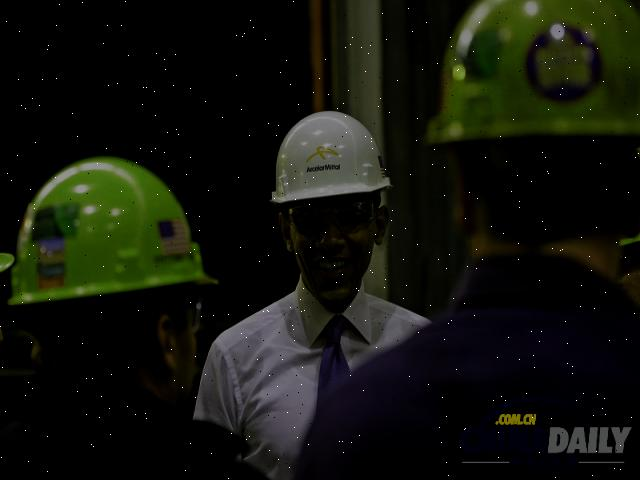Helmet: (420, 0, 639, 154), (4, 150, 221, 302), (265, 106, 395, 206)
